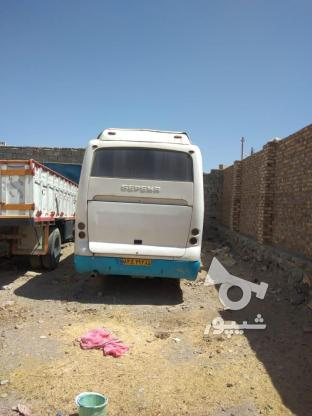car: (120, 259, 151, 264)
